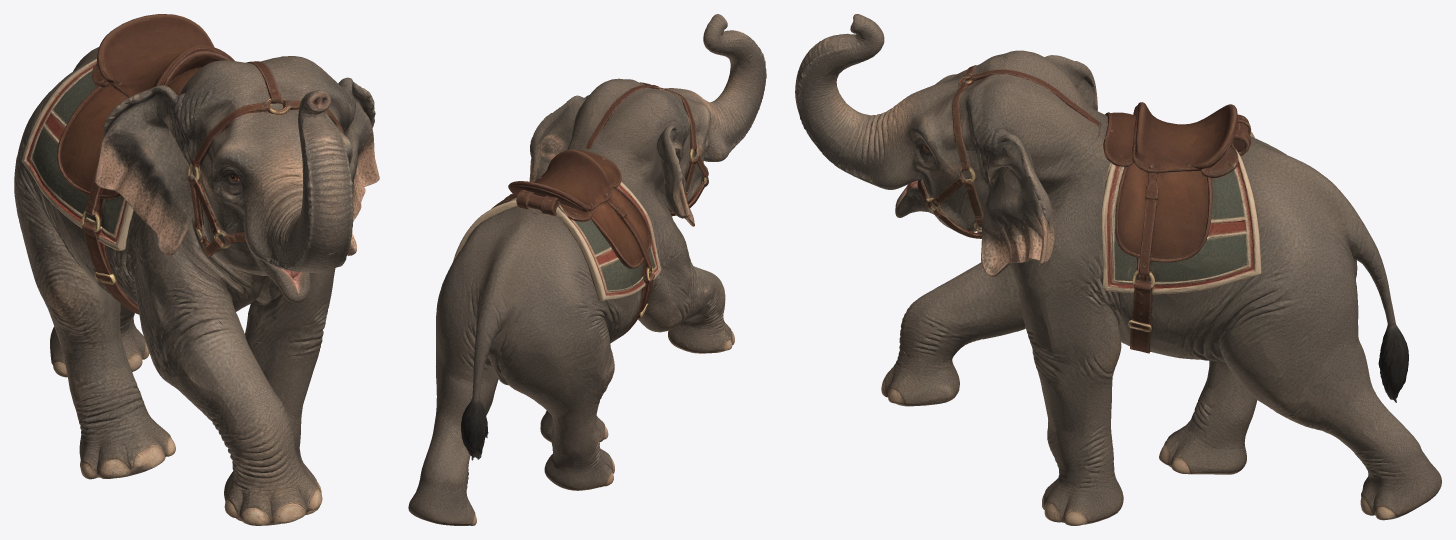
Rendered from elephant.glb.
3 renders of one model, left to right at view 1: azimuth 30°, elevation 25°; view 2: azimuth 150°, elevation 25°; view 3: azimuth 270°, elevation 25°, orthographic. The views are drawn at different scales.
Size of the model in its own units: 0.7613 by 1.5 by 1.9.
Materials: 1 (1 with a texture image).
